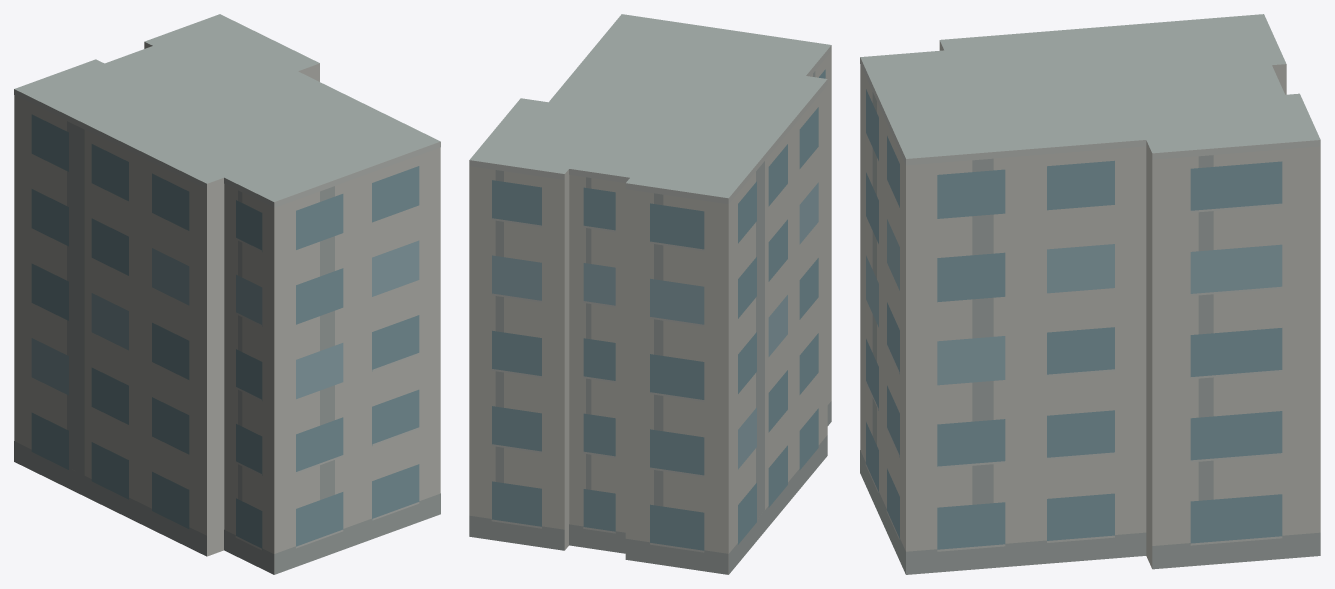
File: survey-upis-32612436.glb
3 views of the same model, side by side, from view 1: azimuth 30°, elevation 25°; view 2: azimuth 150°, elevation 25°; view 3: azimuth 270°, elevation 25° (orthographic). The views are drawn at different scales.
Visible parts, largest first — view 1: survey-upis-32612436.tmp; view 2: survey-upis-32612436.tmp; view 3: survey-upis-32612436.tmp.
Part boxes in pixels (bbox=[...]): survey-upis-32612436.tmp: bbox=[14, 14, 440, 574]; survey-upis-32612436.tmp: bbox=[469, 14, 831, 574]; survey-upis-32612436.tmp: bbox=[860, 14, 1320, 574].
Size of the model in its own units: 11.41 by 15.25 by 15.31.
